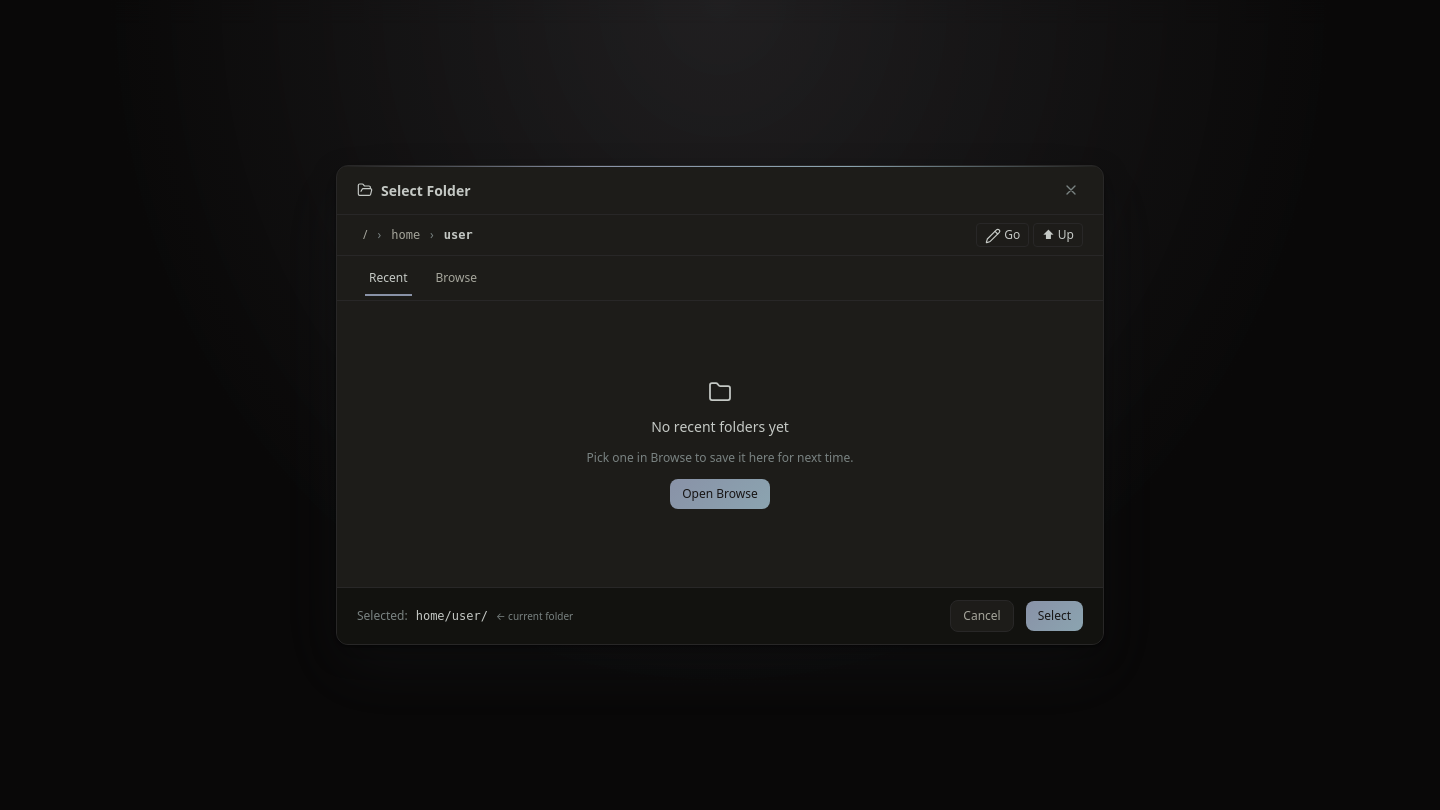
FilePickerDialog — Recent tab + tabstrip + pin › switching to the Browse tab shows the existing tree + content layout
Click the tab with test id "file-picker-tab-browse". click: (456, 278)
box: [424,260,489,296]
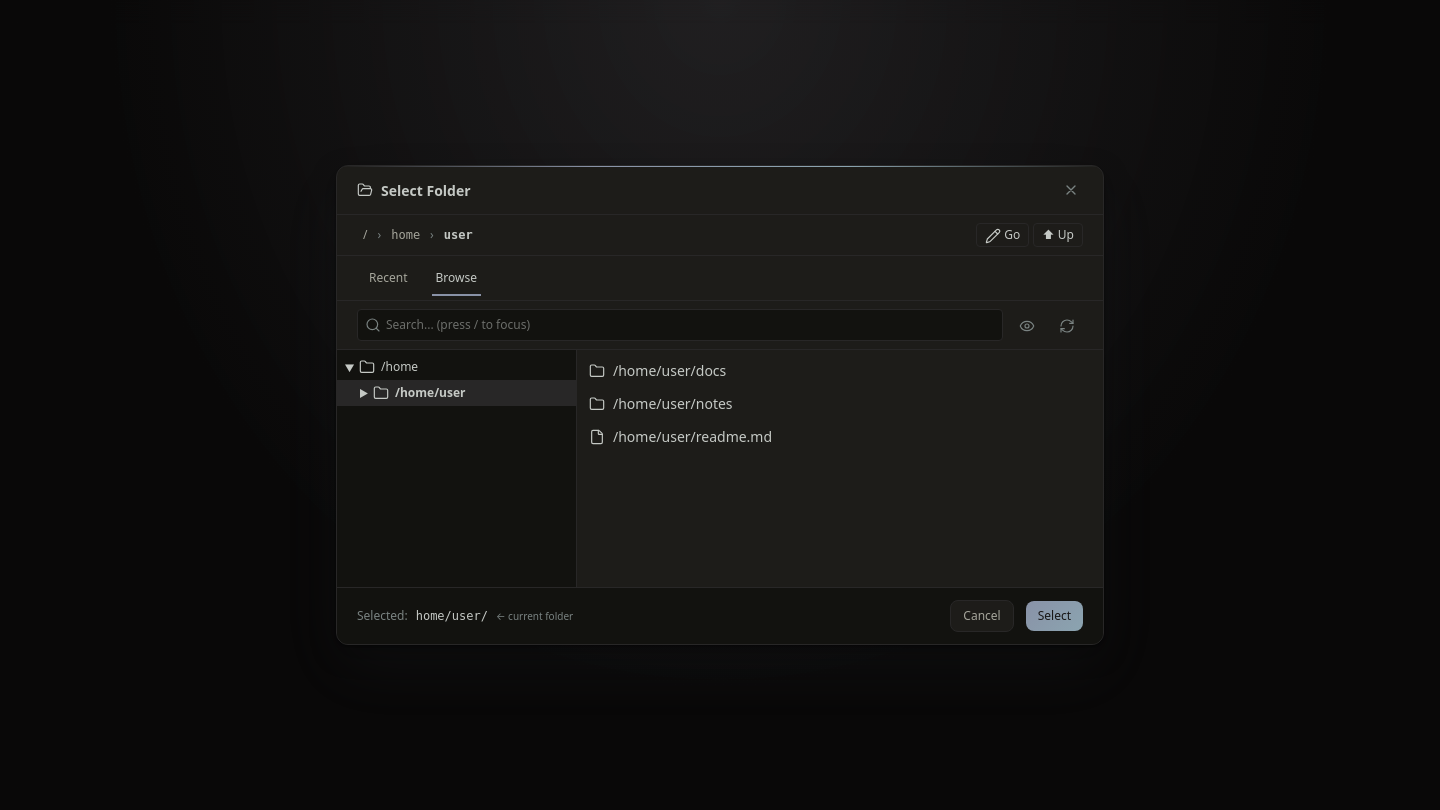
Now the element with test id "file-picker-tree" is shown, box [337,350,577,587]
Now the element with test id "file-picker-content" is shown, box [577,354,1103,453]
